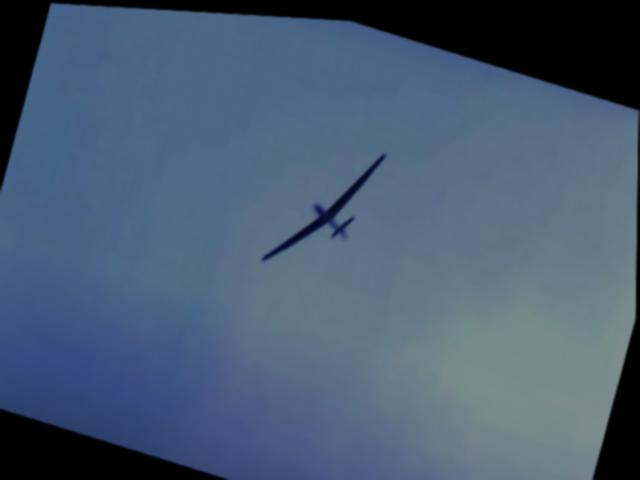iha: (265, 123, 385, 280)
